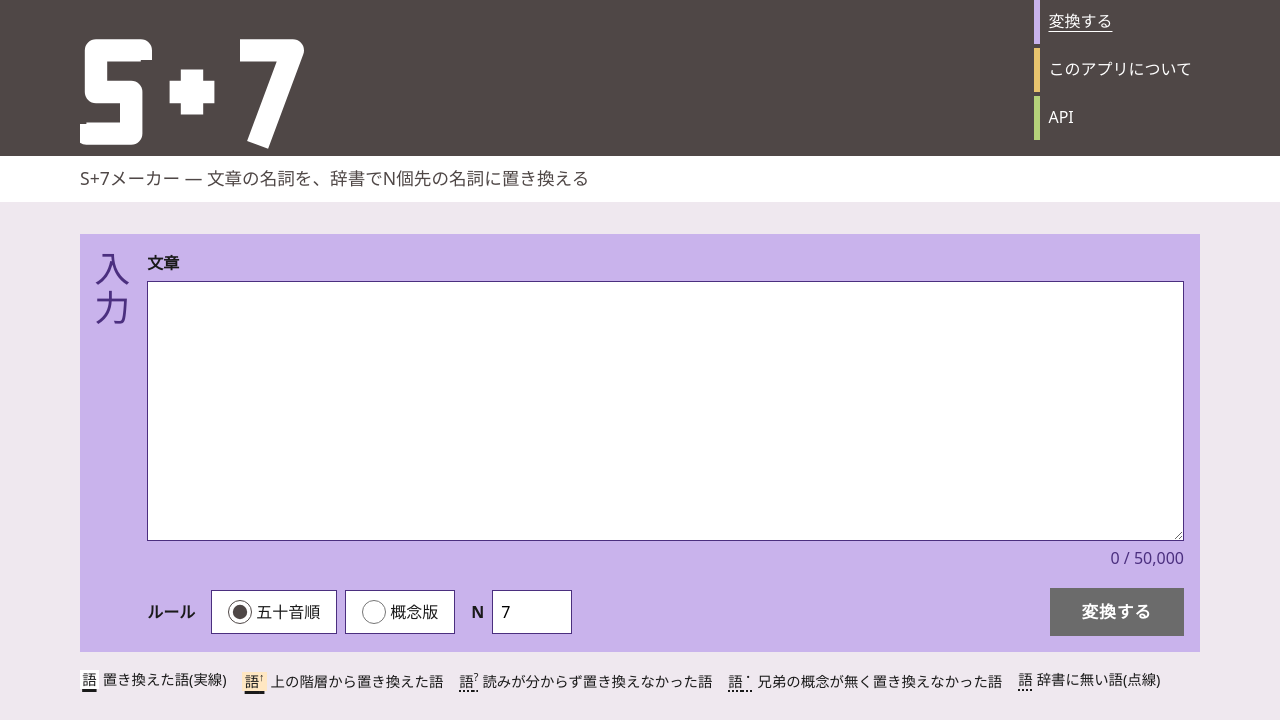
Test: TransformPage › 文章を変換して結果を表示し、解析のイベントを送る
The image size is (1280, 720).
Type "吾輩は猫である。" into the text box labelled "文章".
click(666, 411); type("吾輩は猫である。")  # box [147,281,1184,541]
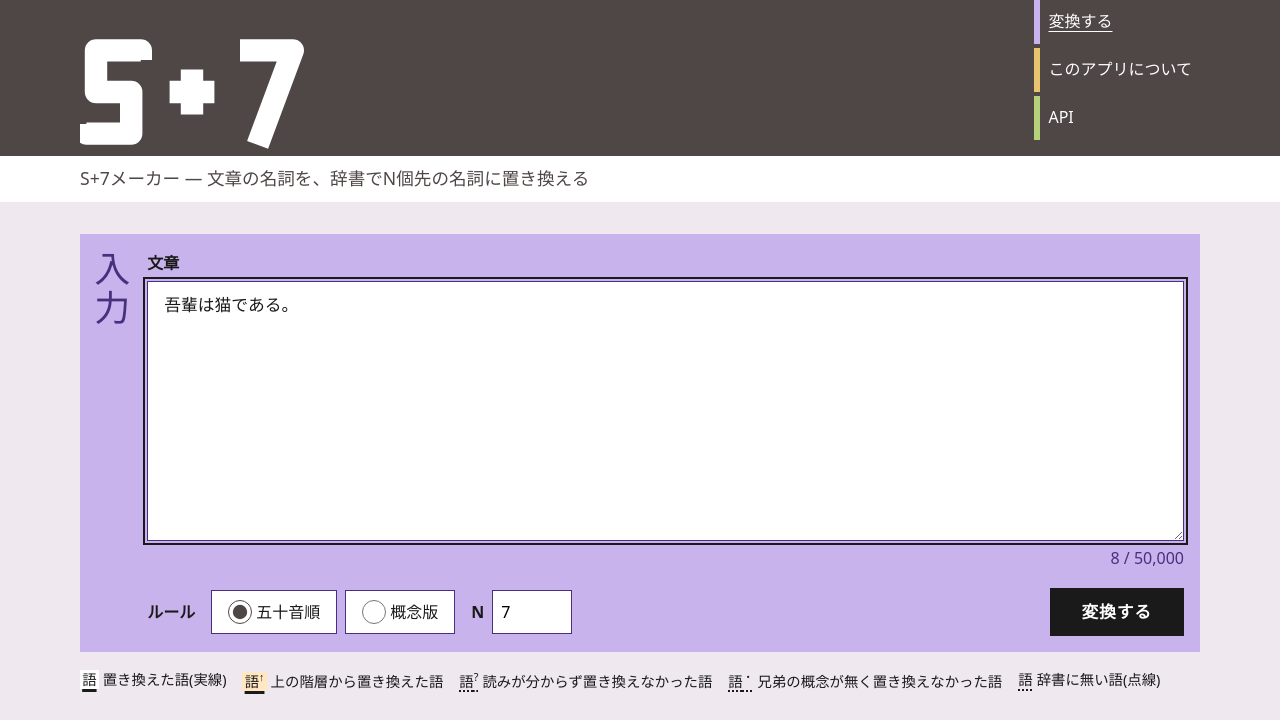
Click the radio button labelled "概念版".
click(374, 612)  # box [362,600,386,624]
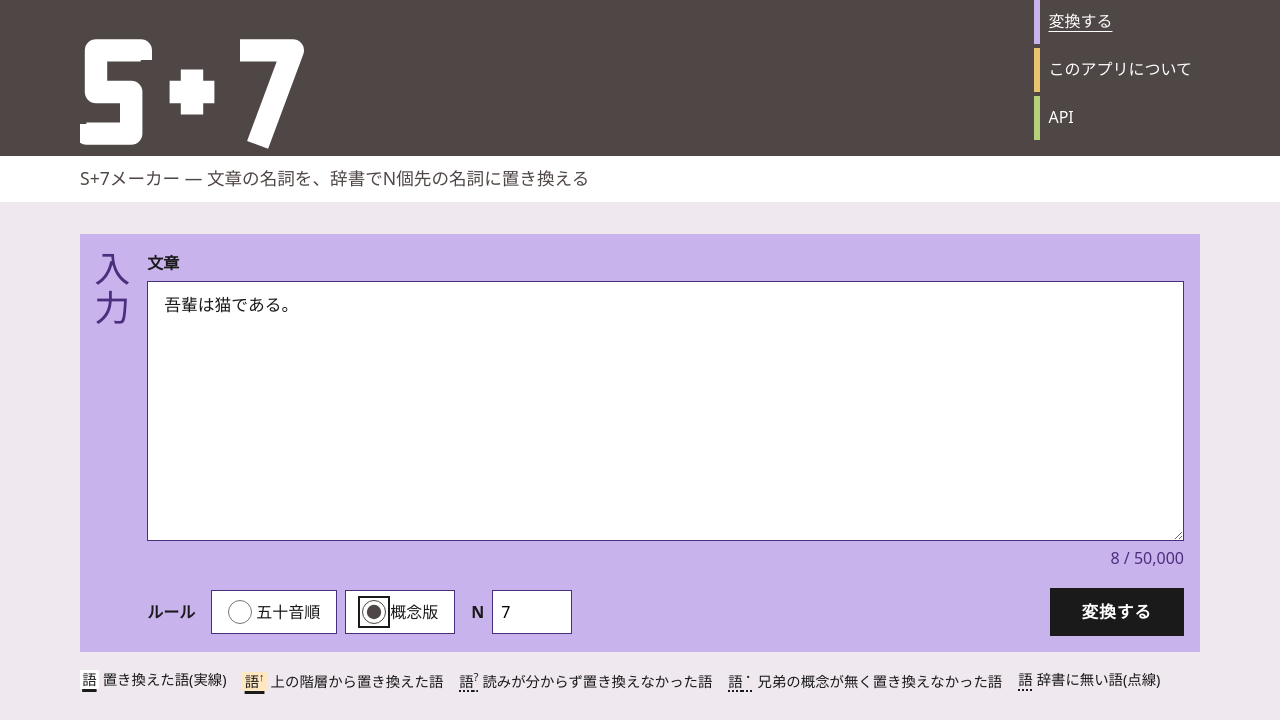
Click the button "変換する".
click(1117, 612)  # box [1050,588,1184,636]
(page scrolled)
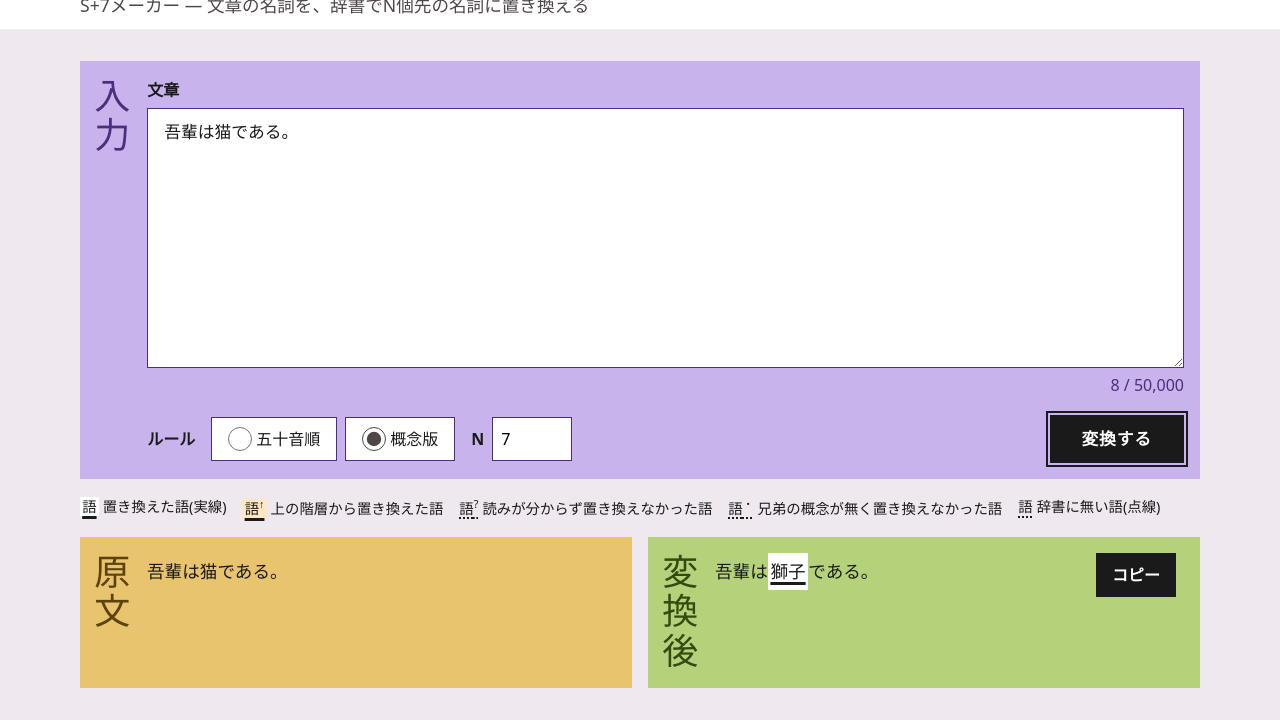
Expected: the button with aria-label "獅子、元の語は猫" is shown, [768,553,808,590]
